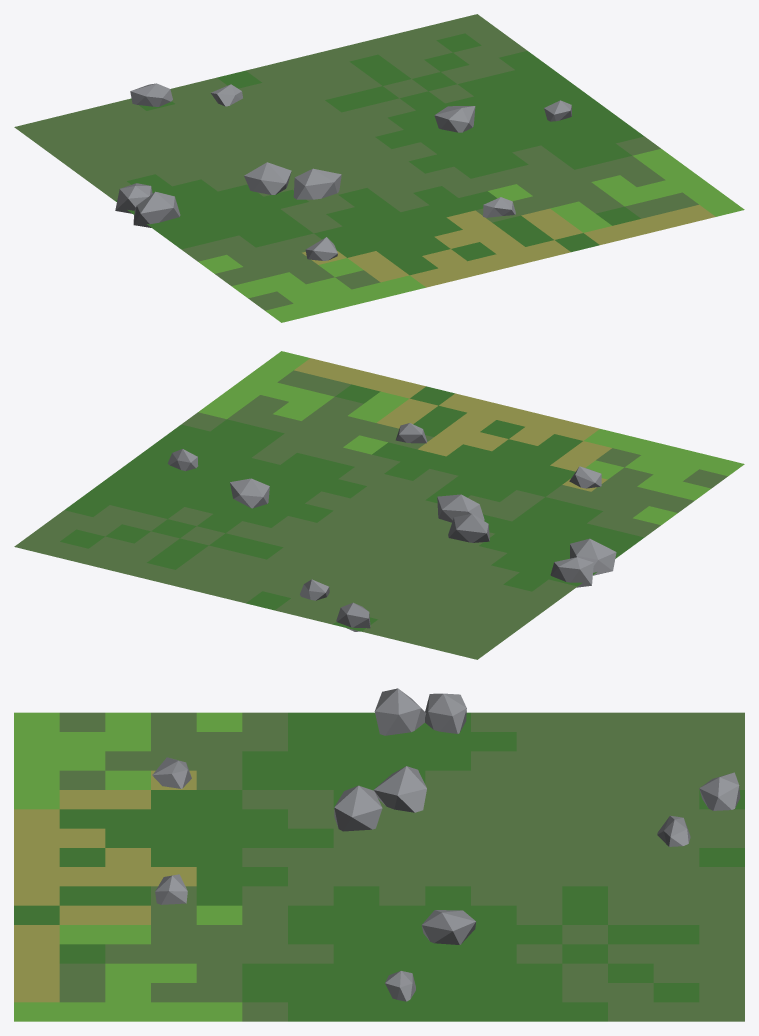
File: chunk_9_3.glb
3 views of the same model, one above another, from view 1: azimuth 30°, elevation 25°; view 2: azimuth 150°, elevation 25°; view 3: azimuth 270°, elevation 25° (orthographic). The views are drawn at different scales.
Parts seen in each view (by area): view 1: chunk_9_3; view 2: chunk_9_3; view 3: chunk_9_3.
Part boxes in pixels (x1=…): chunk_9_3: x1=14, y1=14, x2=744, y2=322; chunk_9_3: x1=14, y1=351, x2=744, y2=659; chunk_9_3: x1=14, y1=688, x2=744, y2=1021.
Bounding box in the file's own units: 16.28 × 1.36 × 16.
